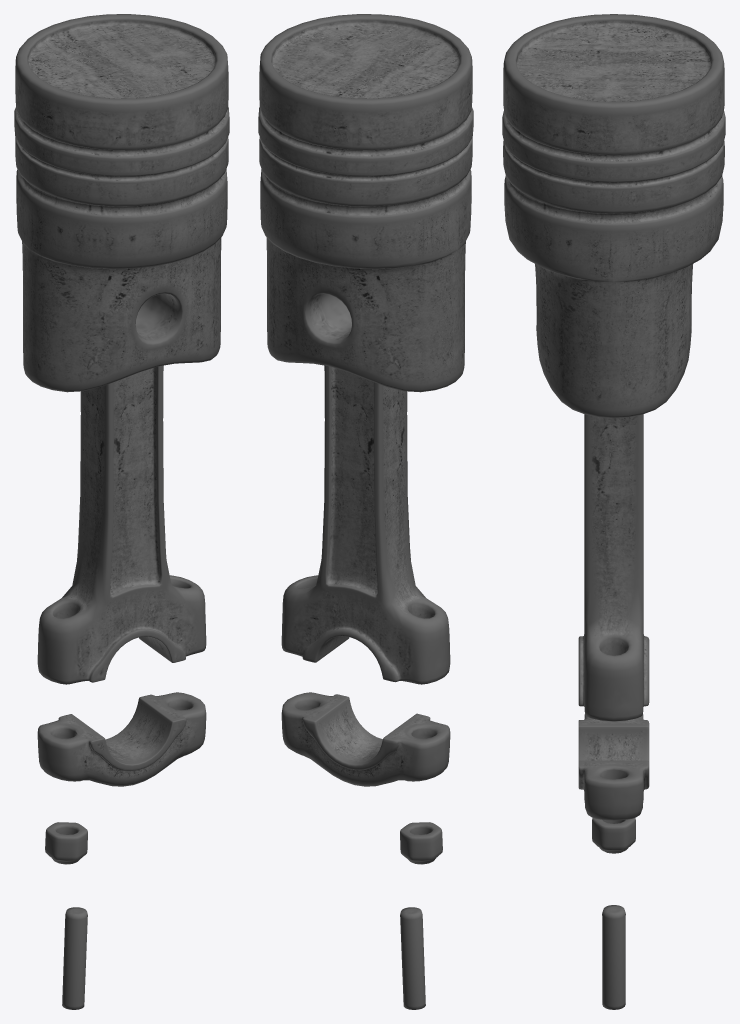
The model's file is uploads_files_6261638_Piston.fbx.
The picture shows the model from 3 angles, left to right: view 1: azimuth 30°, elevation 25°; view 2: azimuth 150°, elevation 25°; view 3: azimuth 270°, elevation 25°; orthographic projection. The views are drawn at different scales.
Visible parts, largest first — view 1: Cylinder.004, Cylinder.006, Cylinder.005, Cylinder; view 2: Cylinder.004, Cylinder.006, Cylinder.005, Cylinder; view 3: Cylinder.004, Cylinder.006, Cylinder.005, Cylinder.
Part boxes in pixels (bbox=[...]): Cylinder.004: bbox=[14, 14, 229, 684]; Cylinder.006: bbox=[37, 692, 206, 786]; Cylinder.005: bbox=[62, 907, 87, 1009]; Cylinder: bbox=[45, 822, 87, 864]; Cylinder.004: bbox=[258, 14, 473, 684]; Cylinder.006: bbox=[281, 692, 450, 786]; Cylinder.005: bbox=[400, 907, 425, 1009]; Cylinder: bbox=[400, 822, 442, 864]; Cylinder.004: bbox=[502, 14, 725, 721]; Cylinder.006: bbox=[578, 714, 649, 820]; Cylinder.005: bbox=[602, 905, 625, 1009]; Cylinder: bbox=[592, 818, 635, 853].
Size of the model in its own units: 52.79 by 253 by 52.79.
